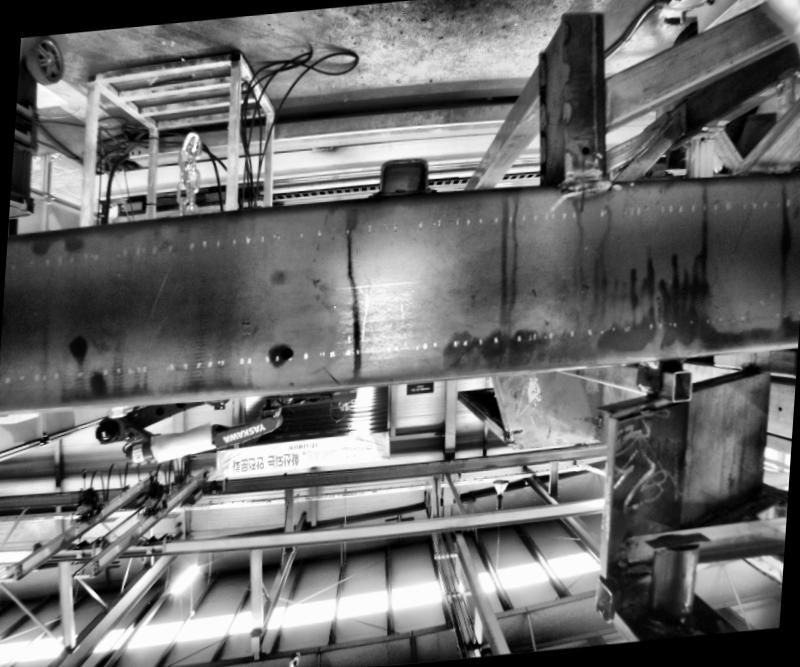bracket: (364, 154, 440, 204)
hole: (280, 346, 292, 360), (580, 146, 590, 155)
welding: (558, 170, 607, 193)
